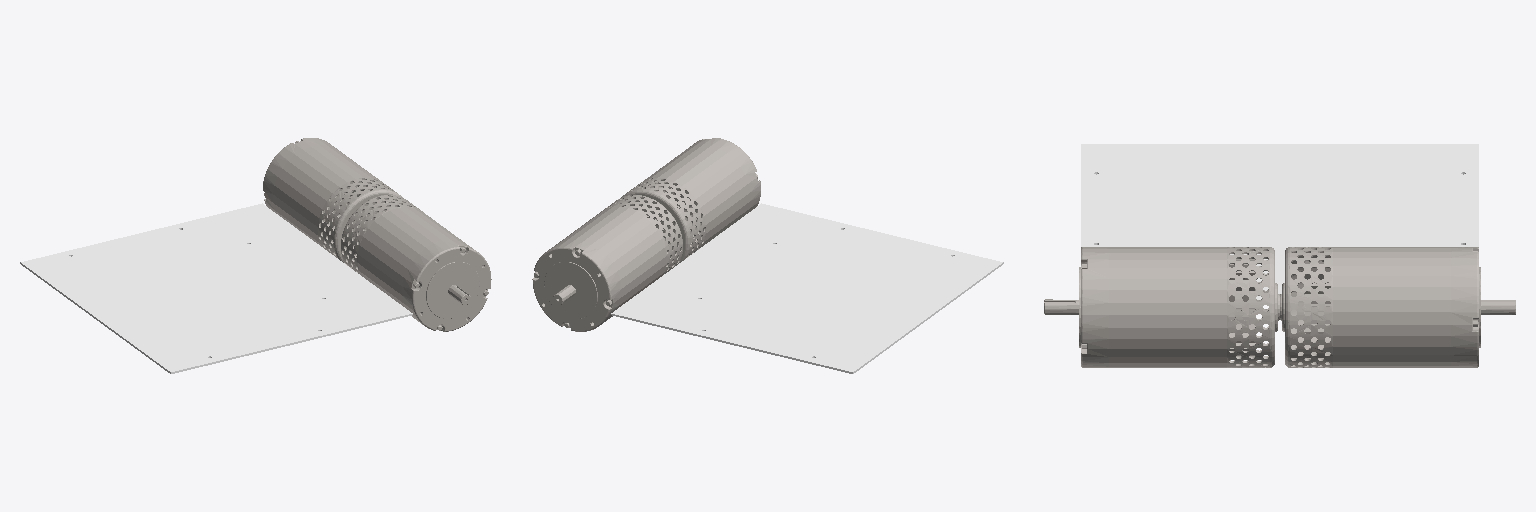
robot.urdf — 总装:
<?xml version="1.0" encoding="utf-8"?>
<!-- This URDF was automatically created by SolidWorks to URDF Exporter! Originally created by [author] ([email redacted]) 
     Commit Version: 1.6.0-4-g7f85cfe  Build Version: 1.6.7995.38578
     For more information, please see http://wiki.ros.org/sw_urdf_exporter -->
<robot
  name="总装">
  <link
    name="base_link">
    <inertial>
      <origin
        xyz="1.11022302462516E-16 -1.11022302462516E-16 0.00199999999999999"
        rpy="0 0 0" />
      <mass
        value="1.16359362842102" />
      <inertia
        ixx="0.0303801339282923"
        ixy="3.54379146869422E-18"
        ixz="-3.33120144708659E-19"
        iyy="0.026226498065345"
        iyz="4.77933383999596E-19"
        izz="0.0566035290772948" />
    </inertial>
    <visual>
      <origin
        xyz="0 0 0"
        rpy="0 0 0" />
      <geometry>
        <mesh
          filename="package://总装/meshes/base_link.STL" />
      </geometry>
      <material
        name="">
        <color
          rgba="1 1 1 1" />
      </material>
    </visual>
    <collision>
      <origin
        xyz="0 0 0"
        rpy="0 0 0" />
      <geometry>
        <mesh
          filename="package://总装/meshes/base_link.STL" />
      </geometry>
    </collision>
  </link>
  <link
    name="wheel_lf_link">
    <inertial>
      <origin
        xyz="1.5138E-07 -0.20309 1.0985E-06"
        rpy="0 0 0" />
      <mass
        value="5.155" />
      <inertia
        ixx="0.033833"
        ixy="2.1987E-07"
        ixz="-1.5294E-07"
        iyy="0.018016"
        iyz="-7.4596E-07"
        izz="0.033834" />
    </inertial>
    <visual>
      <origin
        xyz="0 0 0"
        rpy="0 0 0" />
      <geometry>
        <mesh
          filename="package://总装/meshes/wheel_lf_link.STL" />
      </geometry>
      <material
        name="">
        <color
          rgba="0.77255 0.75294 0.73333 1" />
      </material>
    </visual>
    <collision>
      <origin
        xyz="0 0 0"
        rpy="0 0 0" />
      <geometry>
        <mesh
          filename="package://总装/meshes/wheel_lf_link.STL" />
      </geometry>
    </collision>
  </link>
  <joint
    name="wheel_lf_link"
    type="continuous">
    <origin
      xyz="0.34502 0.37 0.032734"
      rpy="0 0 0" />
    <parent
      link="base_link" />
    <child
      link="wheel_lf_link" />
    <axis
      xyz="0 -1 0" />
  </joint>
  <link
    name="wheel_rf_link">
    <inertial>
      <origin
        xyz="-5.2858E-08 0.20309 -1.1076E-06"
        rpy="0 0 0" />
      <mass
        value="5.155" />
      <inertia
        ixx="0.033833"
        ixy="-3.5308E-07"
        ixz="3.6456E-07"
        iyy="0.018016"
        iyz="-6.9292E-07"
        izz="0.033834" />
    </inertial>
    <visual>
      <origin
        xyz="0 0 0"
        rpy="0 0 0" />
      <geometry>
        <mesh
          filename="package://总装/meshes/wheel_rf_link.STL" />
      </geometry>
      <material
        name="">
        <color
          rgba="0.77255 0.75294 0.73333 1" />
      </material>
    </visual>
    <collision>
      <origin
        xyz="0 0 0"
        rpy="0 0 0" />
      <geometry>
        <mesh
          filename="package://总装/meshes/wheel_rf_link.STL" />
      </geometry>
    </collision>
  </link>
  <joint
    name="wheel_rf_joint"
    type="continuous">
    <origin
      xyz="0.34502 -0.37 0.032734"
      rpy="0 0 0" />
    <parent
      link="base_link" />
    <child
      link="wheel_rf_link" />
    <axis
      xyz="0 -1 0" />
  </joint>
</robot>

--- What the picture shows (computed from the rendered views, not written in the file) ---
3 views of the same robot in one strip: view 1: azimuth 30°, elevation 25°; view 2: azimuth 150°, elevation 25°; view 3: azimuth 270°, elevation 25° (orthographic).
Model 总装 with 3 links and 2 joints (2 continuous), rooted at base_link, posed every joint at zero.
Links seen in each view (by area): view 1: base_link, wheel_rf_link, wheel_lf_link; view 2: base_link, wheel_lf_link, wheel_rf_link; view 3: base_link, wheel_lf_link, wheel_rf_link.
Link boxes in pixels (x1,y1,x2,y2): base_link: [20, 203, 412, 373]; wheel_rf_link: [341, 195, 491, 331]; wheel_lf_link: [263, 138, 402, 262]; base_link: [611, 203, 1003, 373]; wheel_lf_link: [532, 195, 682, 331]; wheel_rf_link: [621, 138, 760, 262]; base_link: [1081, 144, 1478, 299]; wheel_lf_link: [1280, 247, 1515, 367]; wheel_rf_link: [1044, 247, 1279, 367].
Size in the robot's own frame: 0.6901 by 0.6634 by 0.1702 metres.
Meshes: 3 distinct files referenced, 3 mesh visuals loaded (3 binary STL).